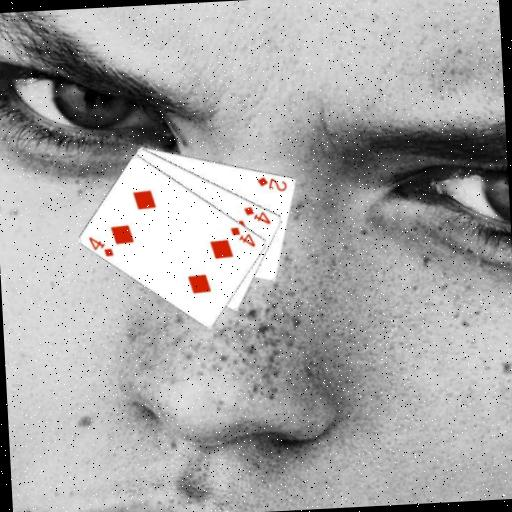2D: (254, 172, 289, 194)
4D: (241, 202, 274, 227), (228, 223, 258, 250), (86, 232, 116, 259)
